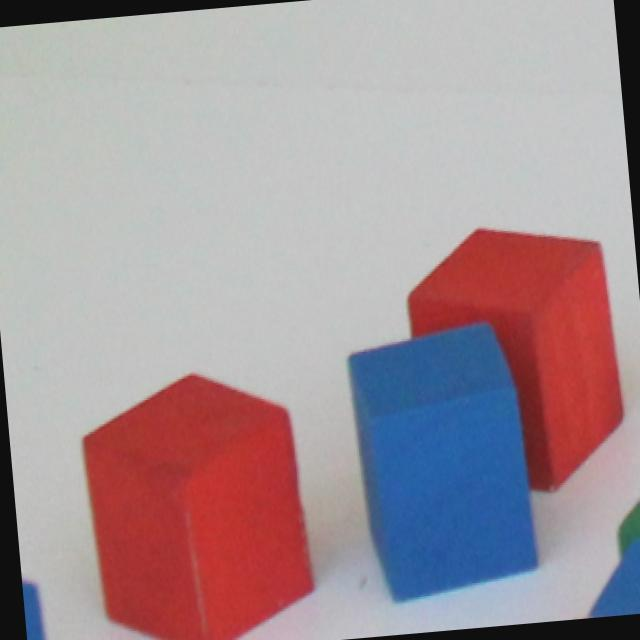bluecube: (346, 318, 537, 607)
red cube: (82, 363, 313, 640), (408, 226, 626, 491)
